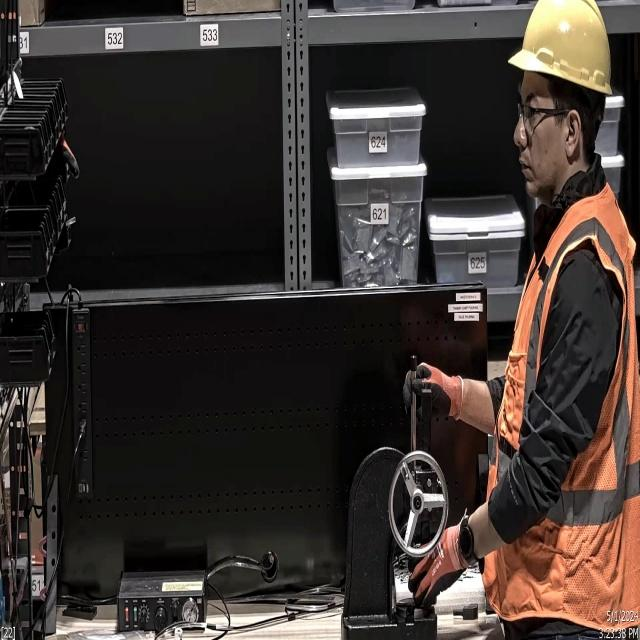gloves: (406, 516, 465, 616)
